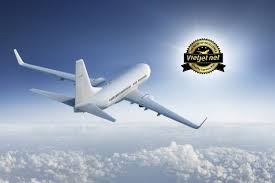maybay_dansu: (11, 49, 205, 134)
